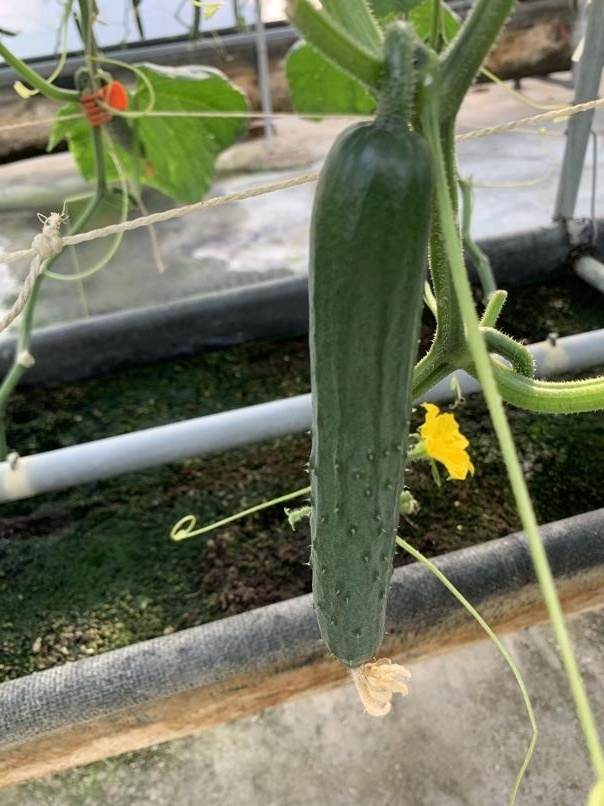mature: (293, 122, 454, 659)
